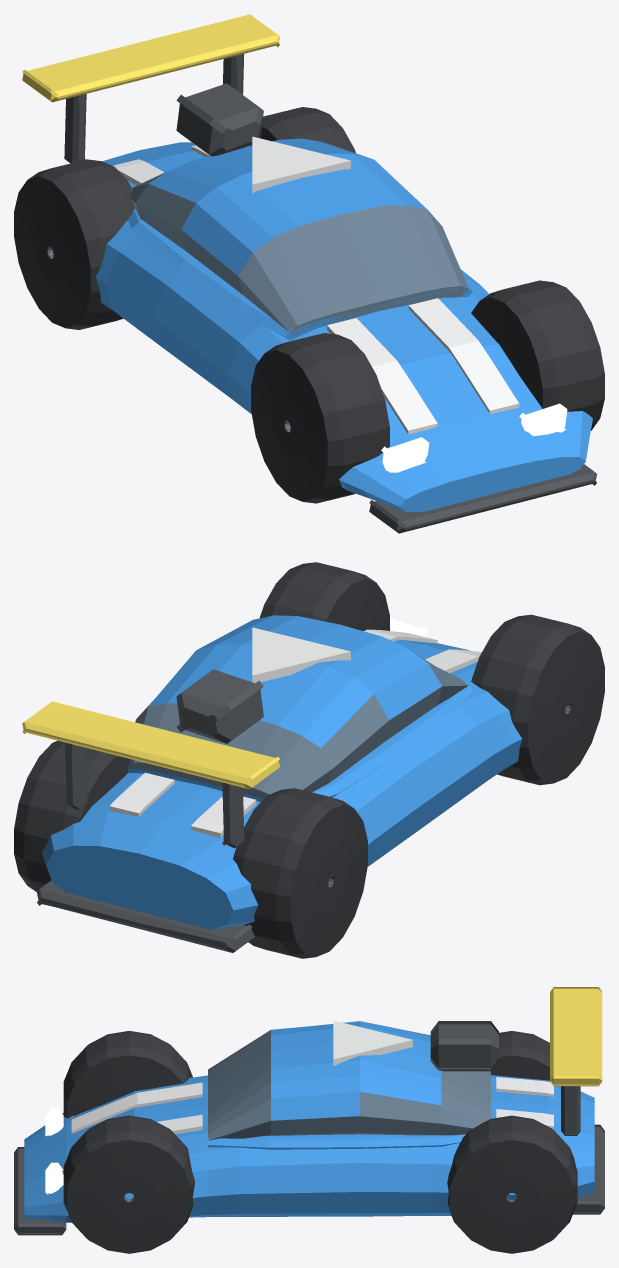
Rendered from toy-car-sport.glb.
3 views of the same model, one above another, from view 1: azimuth 30°, elevation 25°; view 2: azimuth 150°, elevation 25°; view 3: azimuth 270°, elevation 25° (orthographic). The views are drawn at different scales.
Parts seen in each view (by area): view 1: toy-car-sport-body, toy-car-sport-canopy, wheel-front-left, wheel-rear-left, wheel-front-right, toy-car-sport-wing, toy-car-sport-airbox, toy-car-sport-stripe-hood-right, toy-car-sport-beltline, toy-car-sport-splitter, toy-car-sport-stripe-hood-left, toy-car-sport-glyph (+6 smaller); view 2: toy-car-sport-body, toy-car-sport-canopy, wheel-rear-left, wheel-front-left, toy-car-sport-wing, wheel-rear-right, wheel-front-right, toy-car-sport-airbox, toy-car-sport-diffuser, toy-car-sport-beltline, toy-car-sport-glyph, toy-car-sport-stripe-deck-right (+4 smaller); view 3: toy-car-sport-body, toy-car-sport-canopy, wheel-front-right, wheel-rear-right, wheel-front-left, toy-car-sport-wing, toy-car-sport-airbox, toy-car-sport-beltline, wheel-rear-left, toy-car-sport-glyph, toy-car-sport-stripe-hood-left, toy-car-sport-splitter (+7 smaller).
Boxes of the visible parts, x1,y1,x2,y2 form: toy-car-sport-body: [52, 142, 592, 511]; toy-car-sport-canopy: [130, 138, 468, 336]; wheel-front-left: [251, 333, 389, 503]; wheel-rear-left: [14, 159, 134, 329]; wheel-front-right: [471, 280, 604, 430]; toy-car-sport-wing: [22, 14, 279, 102]; toy-car-sport-airbox: [176, 83, 263, 156]; toy-car-sport-stripe-hood-right: [408, 298, 519, 413]; toy-car-sport-beltline: [128, 208, 472, 340]; toy-car-sport-splitter: [369, 464, 596, 533]; toy-car-sport-stripe-hood-left: [327, 318, 437, 434]; toy-car-sport-glyph: [252, 136, 350, 193]; toy-car-sport-body: [42, 639, 522, 929]; toy-car-sport-canopy: [128, 615, 468, 798]; wheel-rear-left: [233, 788, 367, 958]; wheel-front-left: [471, 614, 604, 785]; toy-car-sport-wing: [22, 701, 279, 789]; wheel-rear-right: [14, 740, 130, 891]; wheel-front-right: [259, 562, 389, 630]; toy-car-sport-airbox: [176, 669, 263, 743]; toy-car-sport-diffuser: [36, 880, 255, 952]; toy-car-sport-beltline: [128, 683, 472, 801]; toy-car-sport-glyph: [252, 627, 350, 683]; toy-car-sport-stripe-deck-right: [109, 772, 174, 816]; toy-car-sport-body: [24, 1075, 594, 1222]; toy-car-sport-canopy: [208, 1021, 490, 1140]; wheel-front-right: [63, 1115, 194, 1253]; wheel-rear-right: [447, 1115, 577, 1253]; wheel-front-left: [63, 1031, 192, 1118]; toy-car-sport-wing: [550, 987, 602, 1086]; toy-car-sport-airbox: [430, 1021, 498, 1071]; toy-car-sport-beltline: [208, 1134, 465, 1149]; wheel-rear-left: [491, 1031, 549, 1080]; toy-car-sport-glyph: [333, 1020, 412, 1066]; toy-car-sport-stripe-hood-left: [71, 1082, 202, 1133]; toy-car-sport-splitter: [14, 1147, 66, 1235].
Size of the model in its own units: 1 by 0.7277 by 2.26.
